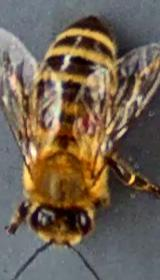varroa_mite: (75, 106, 104, 136)
